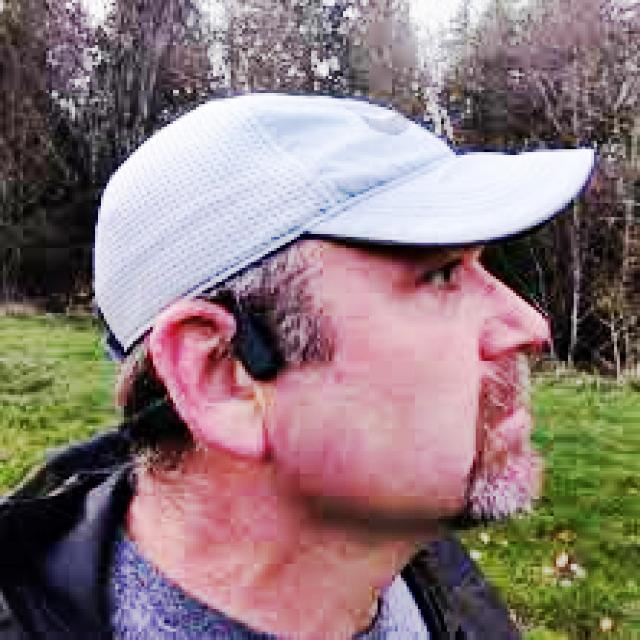TOPI: (68, 68, 599, 360)
